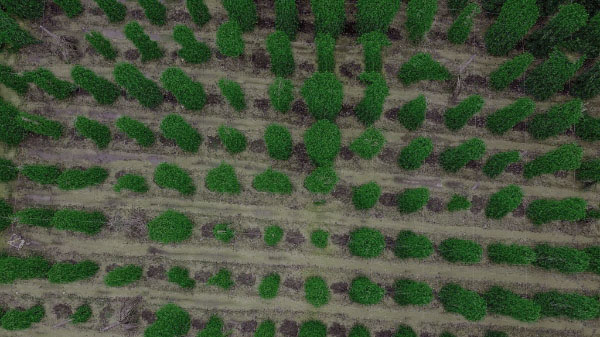TREE: (491, 4, 537, 56), (528, 190, 587, 229), (526, 139, 582, 179), (115, 64, 164, 109), (440, 283, 490, 325), (487, 286, 541, 324), (535, 53, 580, 98), (160, 68, 207, 111), (536, 242, 590, 279), (397, 53, 451, 88), (540, 290, 599, 322), (303, 73, 345, 116), (75, 64, 117, 106), (486, 95, 532, 132), (20, 112, 71, 145), (124, 24, 168, 62), (442, 136, 482, 177), (544, 5, 578, 52), (441, 92, 478, 135), (1, 251, 52, 282), (535, 102, 580, 137), (24, 68, 73, 100), (354, 2, 398, 37), (492, 239, 537, 273), (152, 210, 192, 248), (170, 28, 210, 65), (1, 12, 37, 53), (492, 55, 529, 93), (148, 302, 188, 337), (306, 121, 339, 163), (360, 74, 387, 125), (441, 236, 484, 268), (1, 304, 48, 332), (215, 22, 246, 64), (398, 135, 430, 175), (55, 211, 108, 235), (349, 225, 385, 260), (488, 185, 523, 221), (163, 119, 202, 151), (358, 35, 392, 71), (117, 117, 157, 147), (155, 164, 195, 193), (311, 1, 344, 36), (392, 277, 433, 305), (406, 1, 432, 45), (264, 124, 295, 160), (348, 276, 388, 303), (451, 1, 476, 44), (223, 1, 260, 30), (75, 118, 112, 147), (486, 149, 519, 181), (16, 204, 60, 228), (203, 165, 240, 193), (219, 78, 247, 114), (53, 260, 98, 282), (399, 98, 428, 132), (398, 233, 432, 262), (275, 3, 301, 40), (353, 129, 383, 161), (88, 31, 121, 60), (57, 168, 109, 186), (217, 124, 248, 154), (266, 31, 288, 73), (311, 35, 335, 73), (252, 173, 295, 194), (21, 165, 62, 187), (1, 97, 19, 147), (302, 276, 333, 305), (268, 77, 292, 114), (106, 263, 142, 287), (1, 65, 27, 97), (140, 1, 170, 28), (399, 186, 427, 213), (168, 265, 196, 291), (95, 1, 128, 23), (306, 167, 335, 192), (115, 174, 149, 195), (352, 183, 379, 209), (202, 312, 227, 337), (188, 1, 212, 27), (257, 273, 279, 299), (297, 316, 324, 337), (308, 228, 331, 252), (211, 221, 236, 243), (211, 269, 234, 291), (1, 161, 20, 186), (57, 1, 86, 17), (450, 194, 471, 215), (349, 320, 374, 337), (70, 304, 92, 323), (262, 225, 281, 246), (395, 320, 417, 337), (258, 316, 275, 337), (1, 200, 10, 235)
